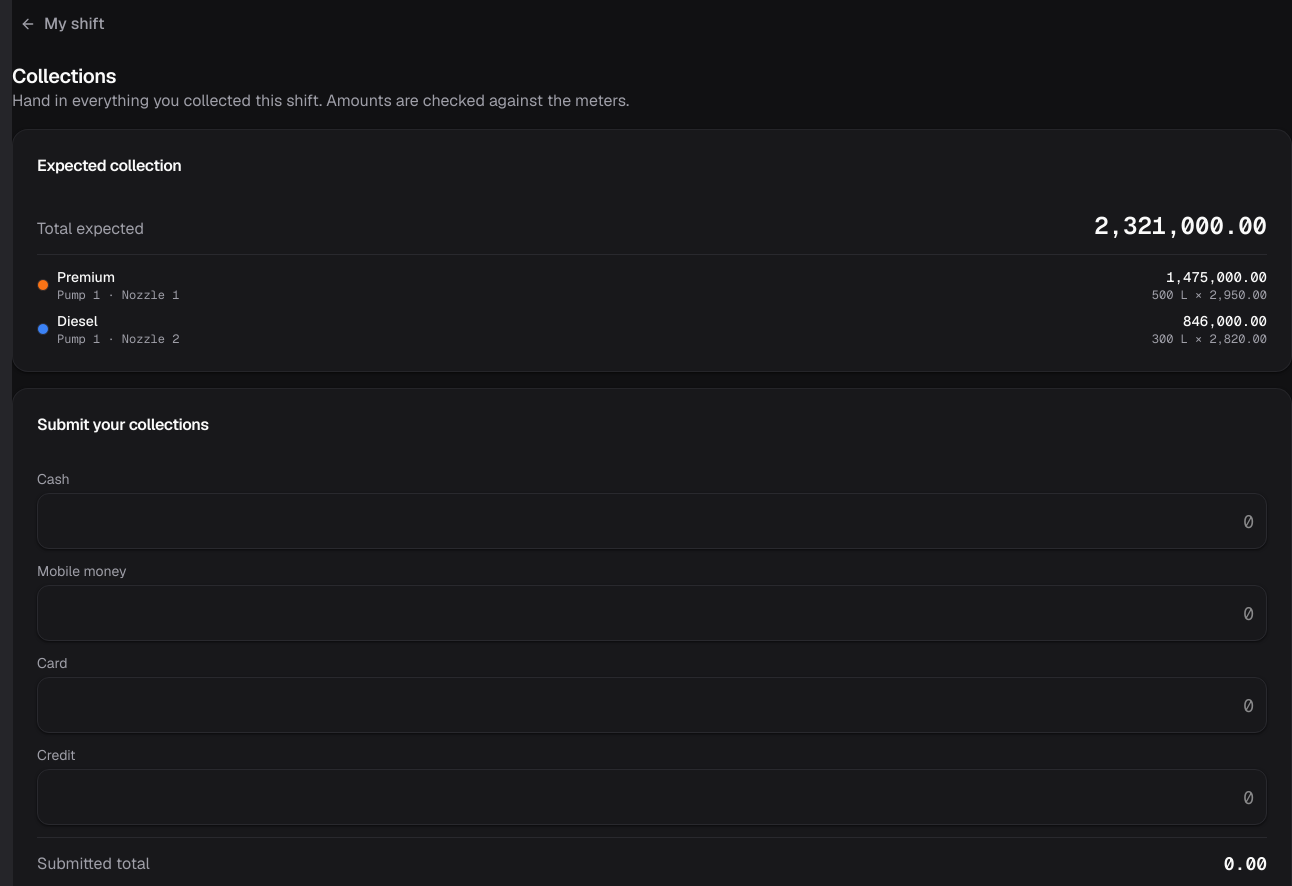
CollectionsPage › shows BALANCED with no reason needed when the total matches exactly
Type "2000000" into the field labelled "Cash" at (652, 521), box [37,493,1267,549]
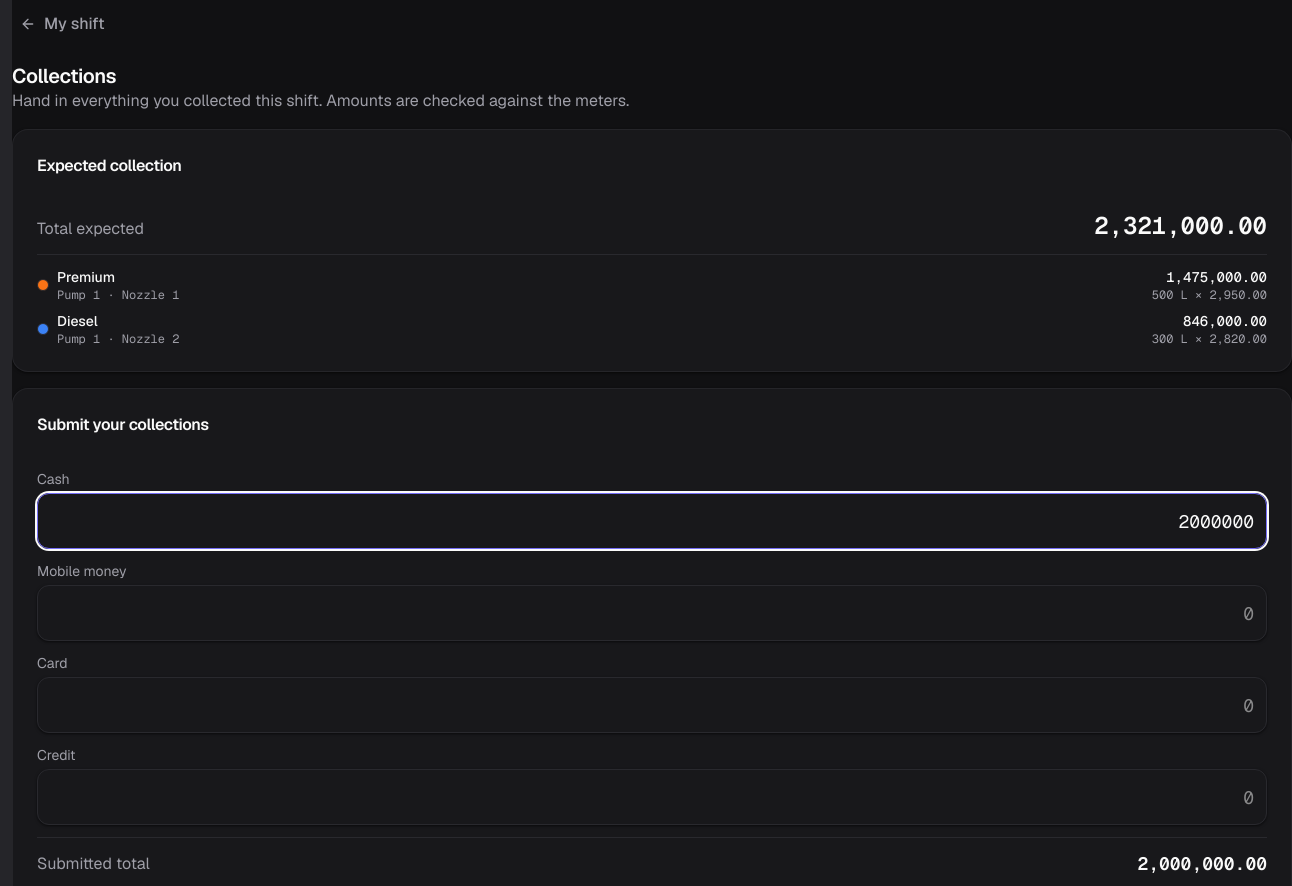
Type "321000" into the field labelled "Mobile money" at (652, 613), box [37,585,1267,641]
(page scrolled)
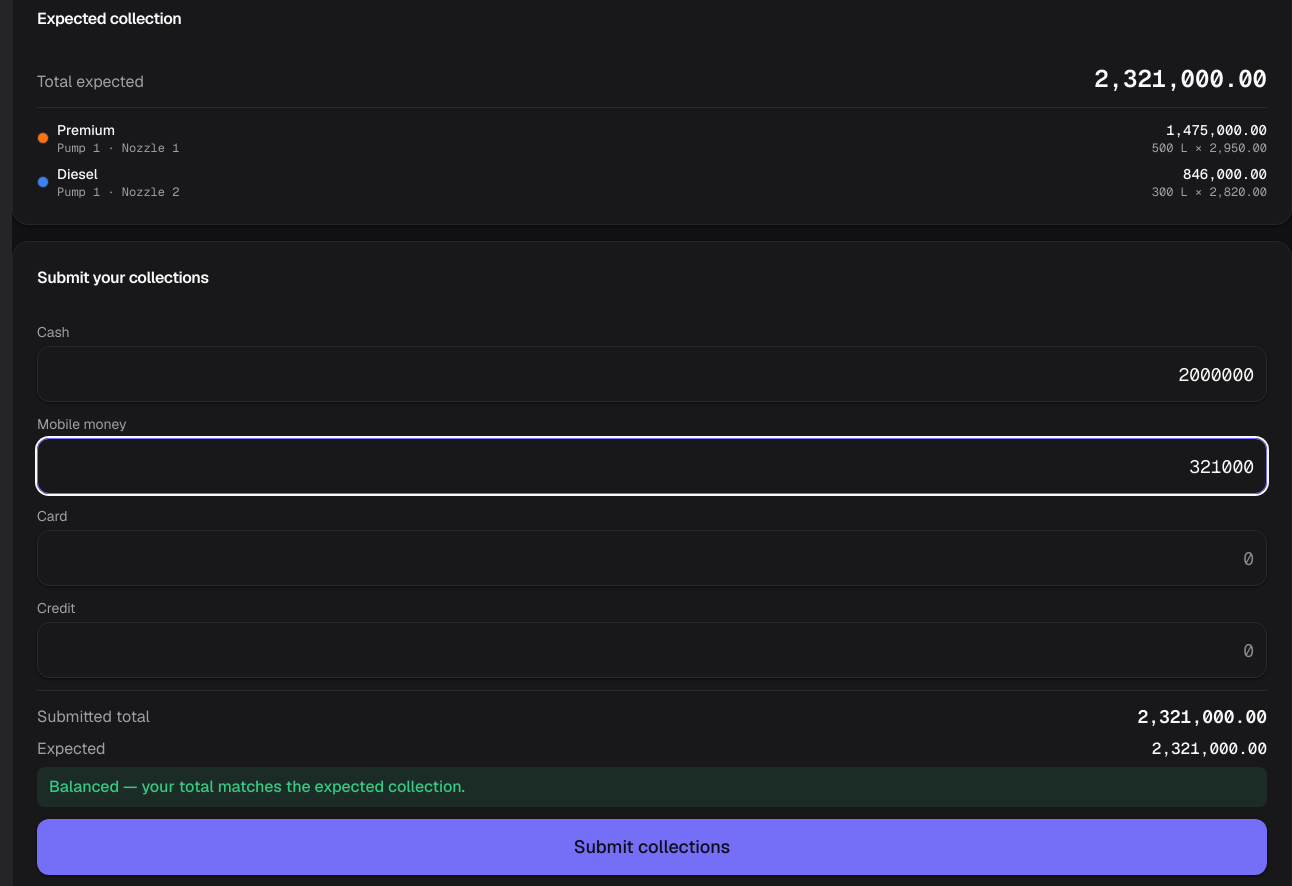
Expected: the text "Balanced — your total matches the expected collection." is shown, [37,767,1267,807]
Expected: the button "Submit collections" is enabled, [37,819,1267,875]
